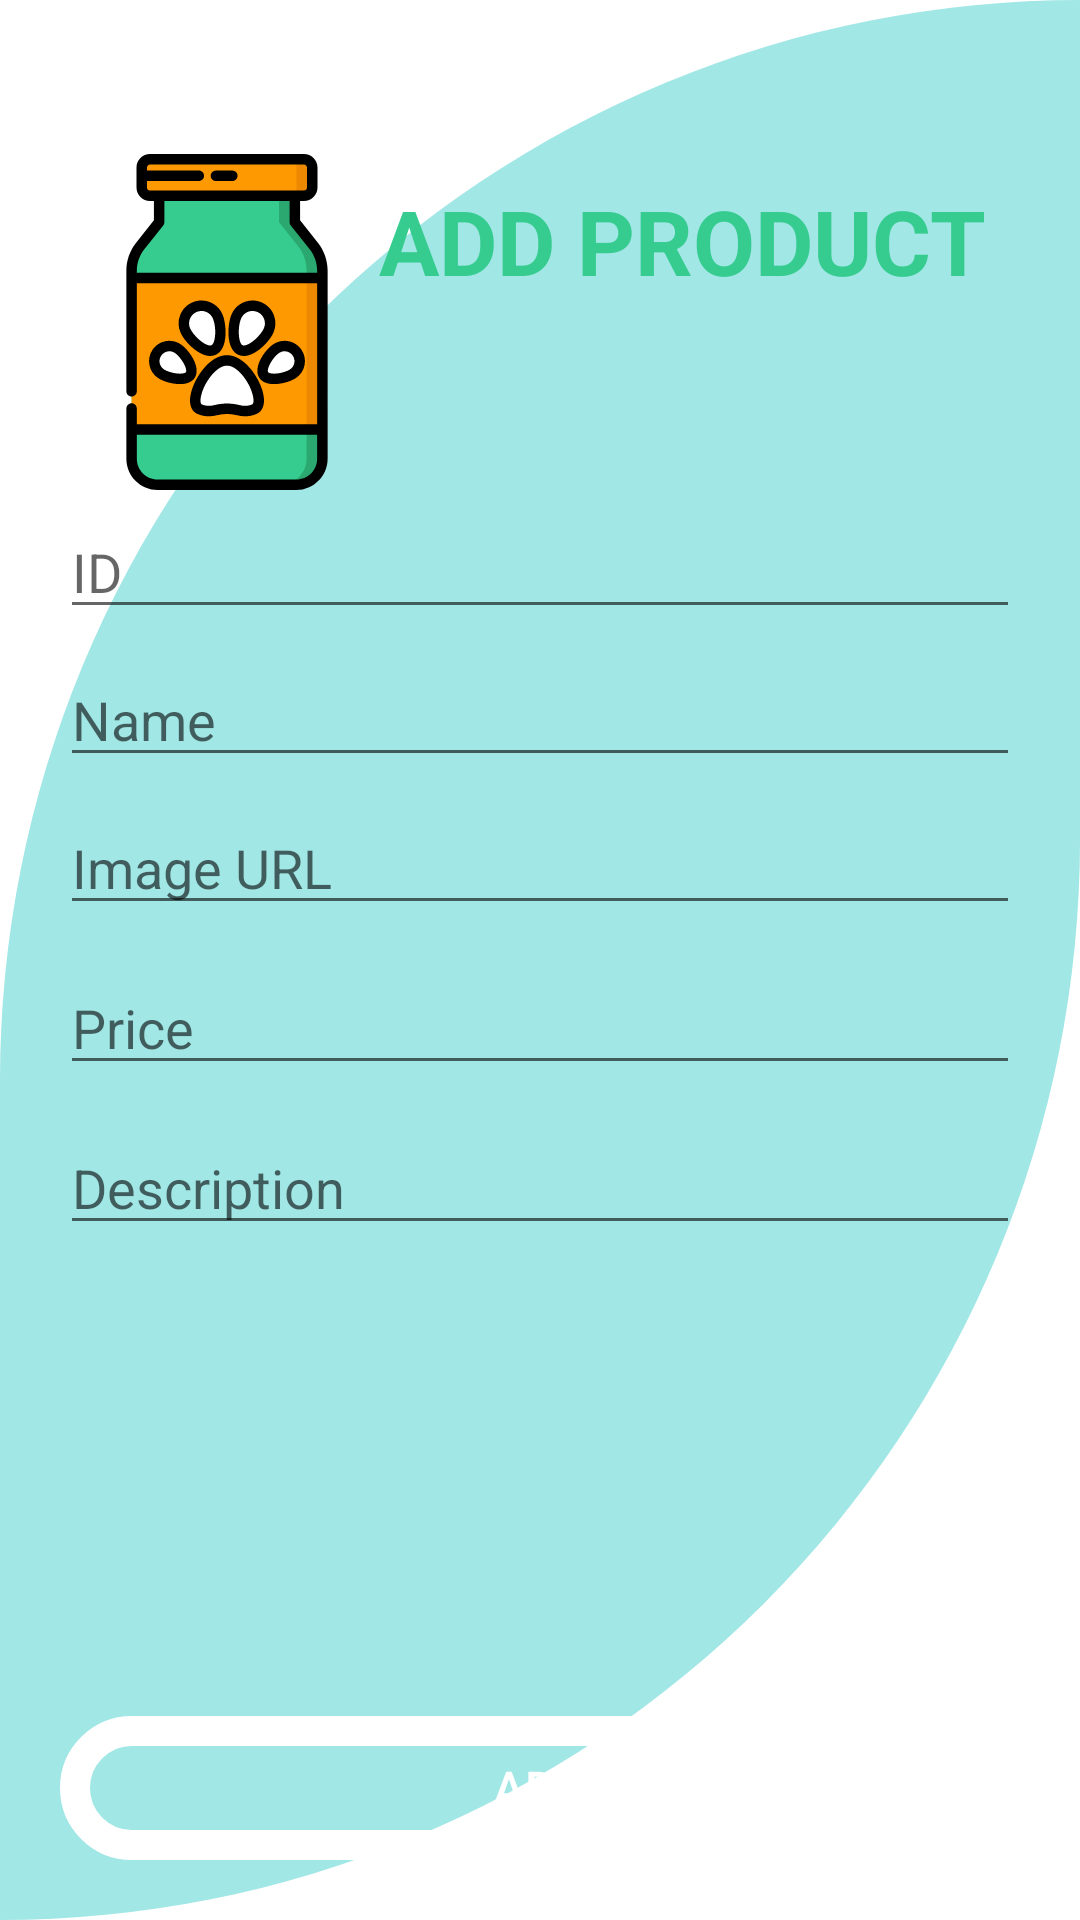

Screen size 1080px×1920px. Icon name, then its box in pixels as (x1, y1, x2, y2):
medicine veterinarian: (126, 154, 395, 490)
